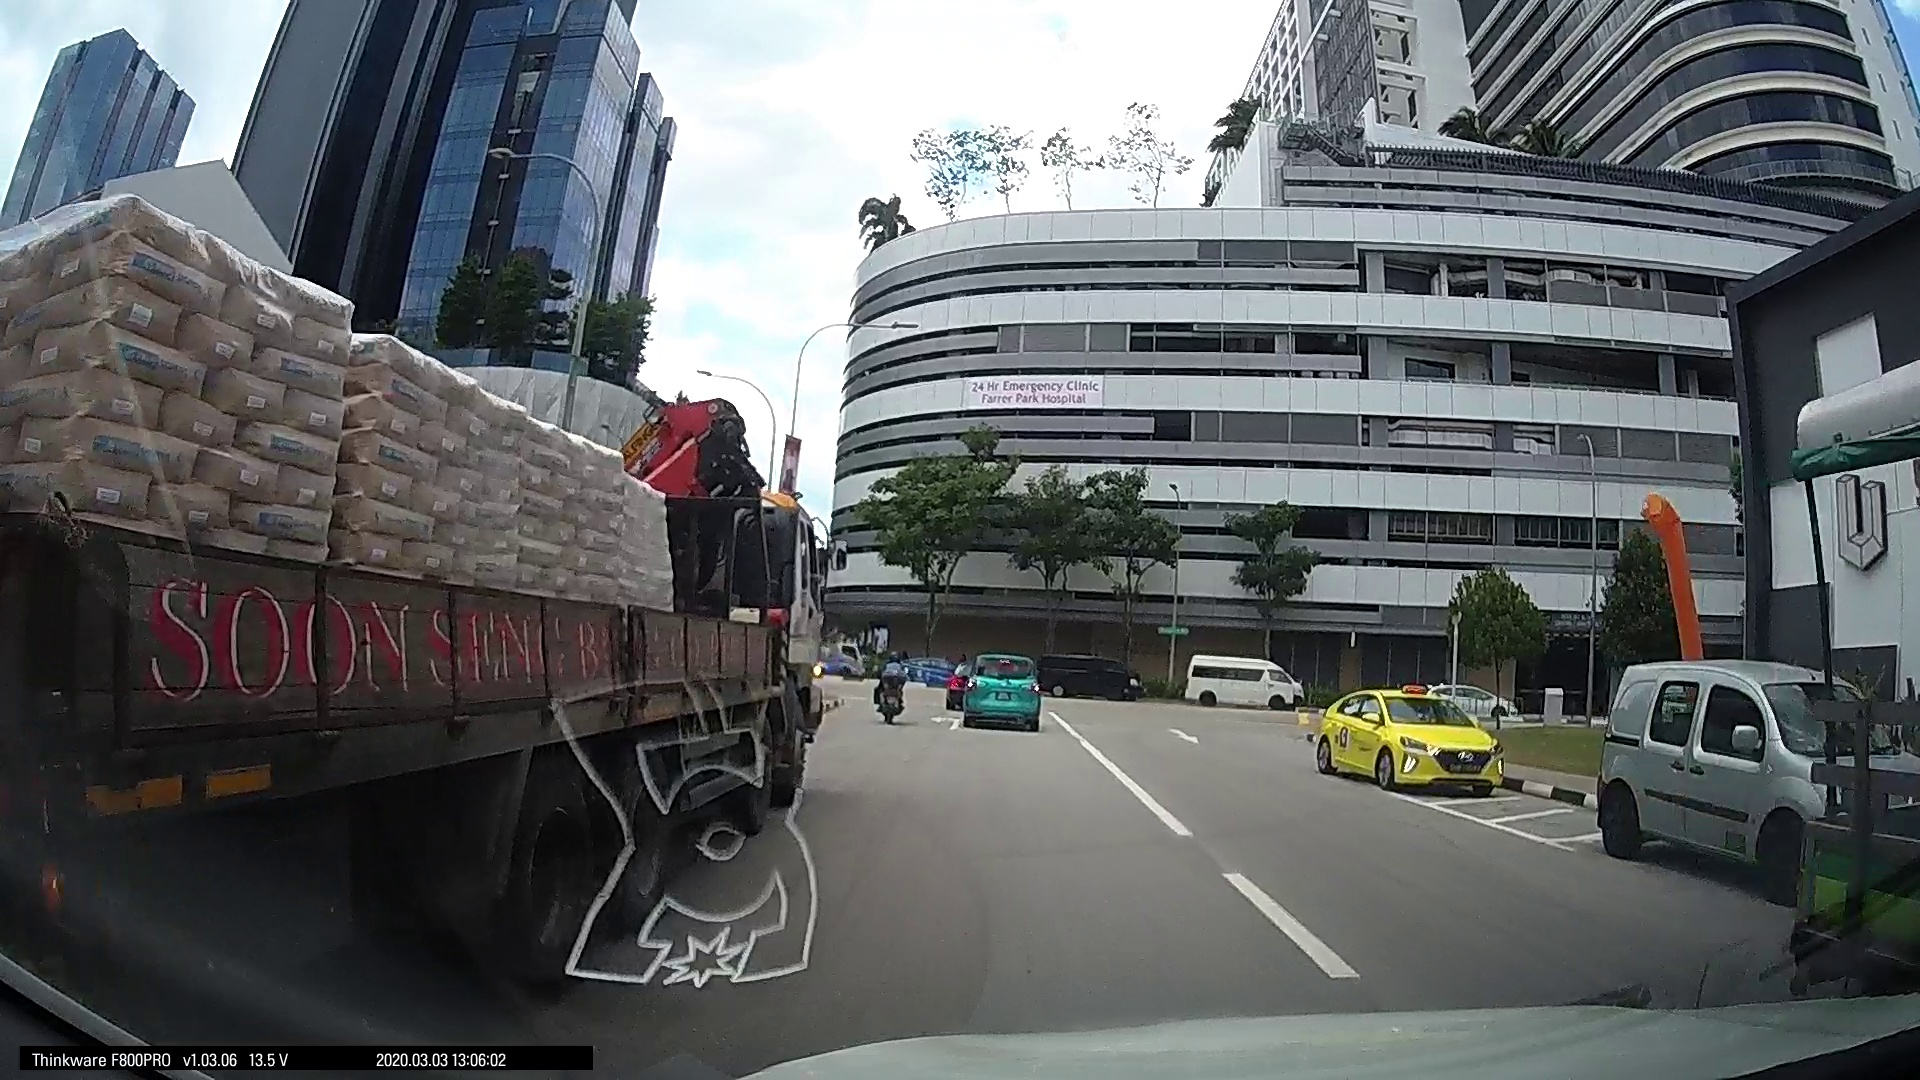Heavy Vehicle: (26, 266, 812, 969)
Light Vehicle: (1585, 651, 1842, 891), (1307, 679, 1510, 798), (1176, 651, 1302, 713), (956, 651, 1039, 728), (1040, 644, 1141, 699)
